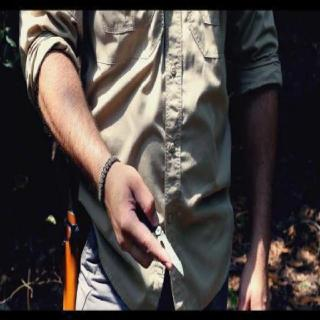knife: (113, 183, 187, 281)
